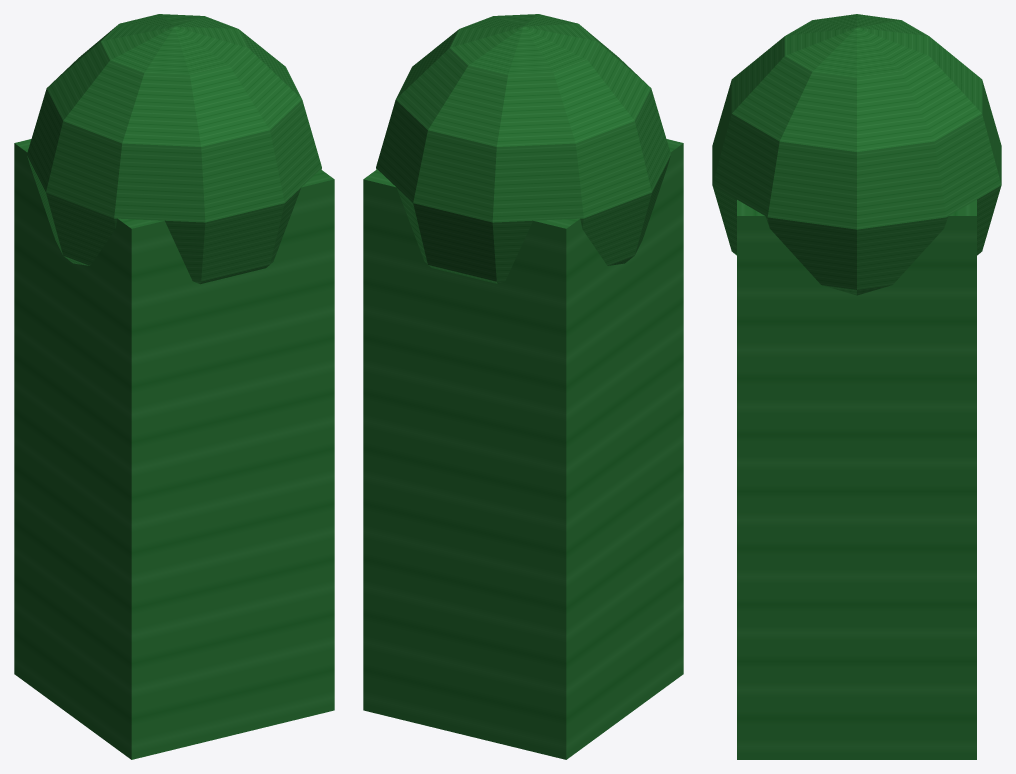
File: vela_p_brazo_der.obj
3 views of the same model, side by side, from view 1: azimuth 30°, elevation 25°; view 2: azimuth 150°, elevation 25°; view 3: azimuth 270°, elevation 25° (orthographic). The views are drawn at different scales.
Visible parts, largest first — view 1: vela_p_brazo_der; view 2: vela_p_brazo_der; view 3: vela_p_brazo_der.
Boxes of the visible parts, left/top/right/bottom form: vela_p_brazo_der: left=14, top=14, right=334, bottom=759; vela_p_brazo_der: left=363, top=14, right=683, bottom=759; vela_p_brazo_der: left=712, top=14, right=1001, bottom=759.
Size of the model in its own units: 0.076 by 0.188 by 0.0723.
Materials: 1 (1 with a texture image).
